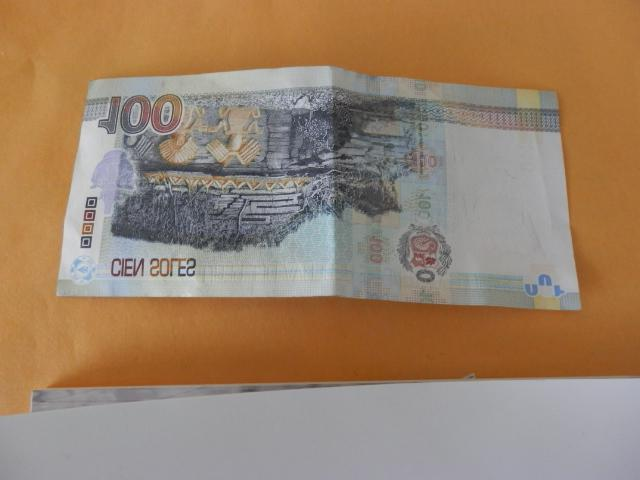B100: (55, 67, 581, 308)
